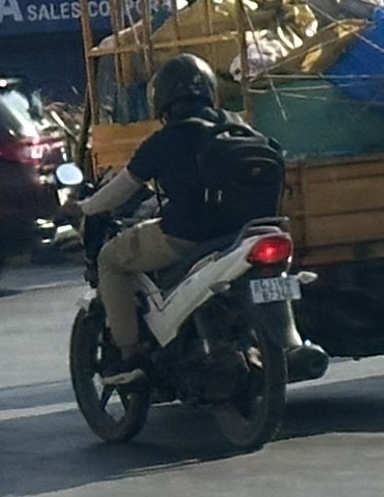BikeWithRider: (48, 45, 337, 461)
Helmet: (140, 46, 226, 131)
